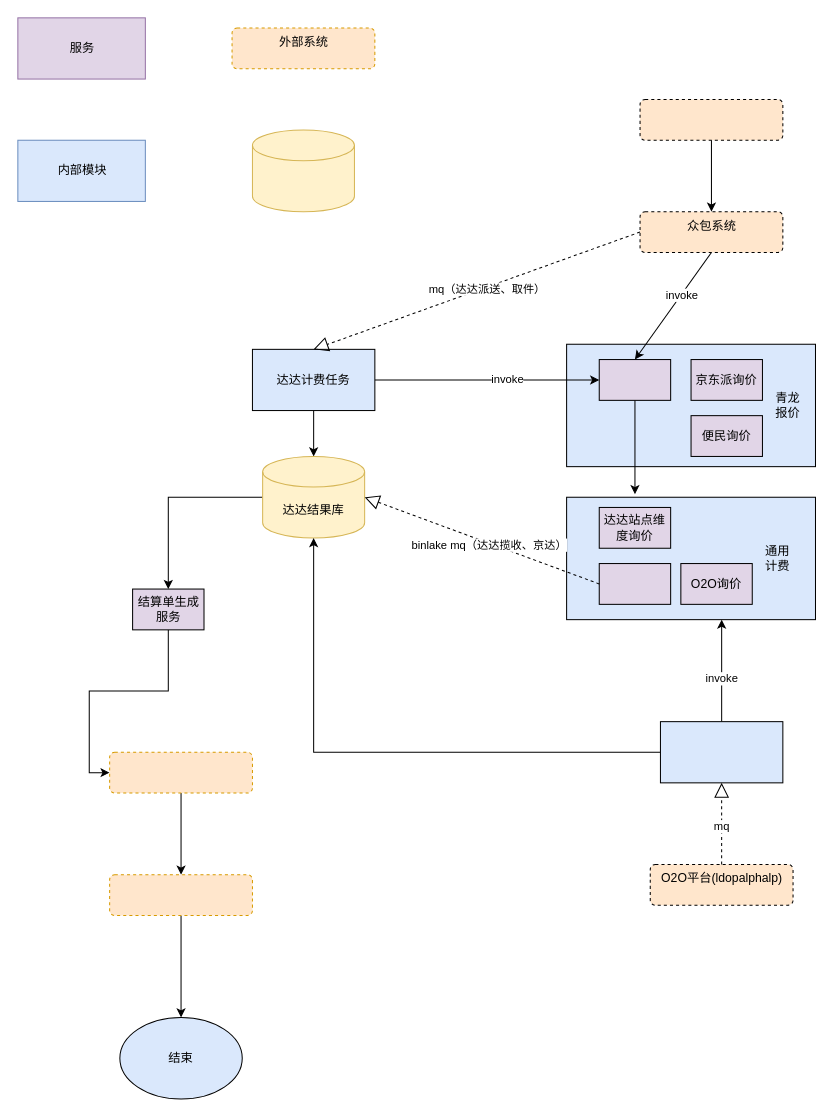
This 833x1117 diagram has some shape labels left out. The shapes that lost their labels are listed below. From the top down, each one's centre as x and y in pixels, then its label:
At point (711, 119): "达达系统".
At point (302, 170): "数据库".
At point (634, 379): "达达询价".
At point (634, 583): "达达计费".
At point (180, 772): "审批流程OA/京ME".
At point (721, 752): "O2O计费任务".
At point (180, 894): "统一收付款平台".
